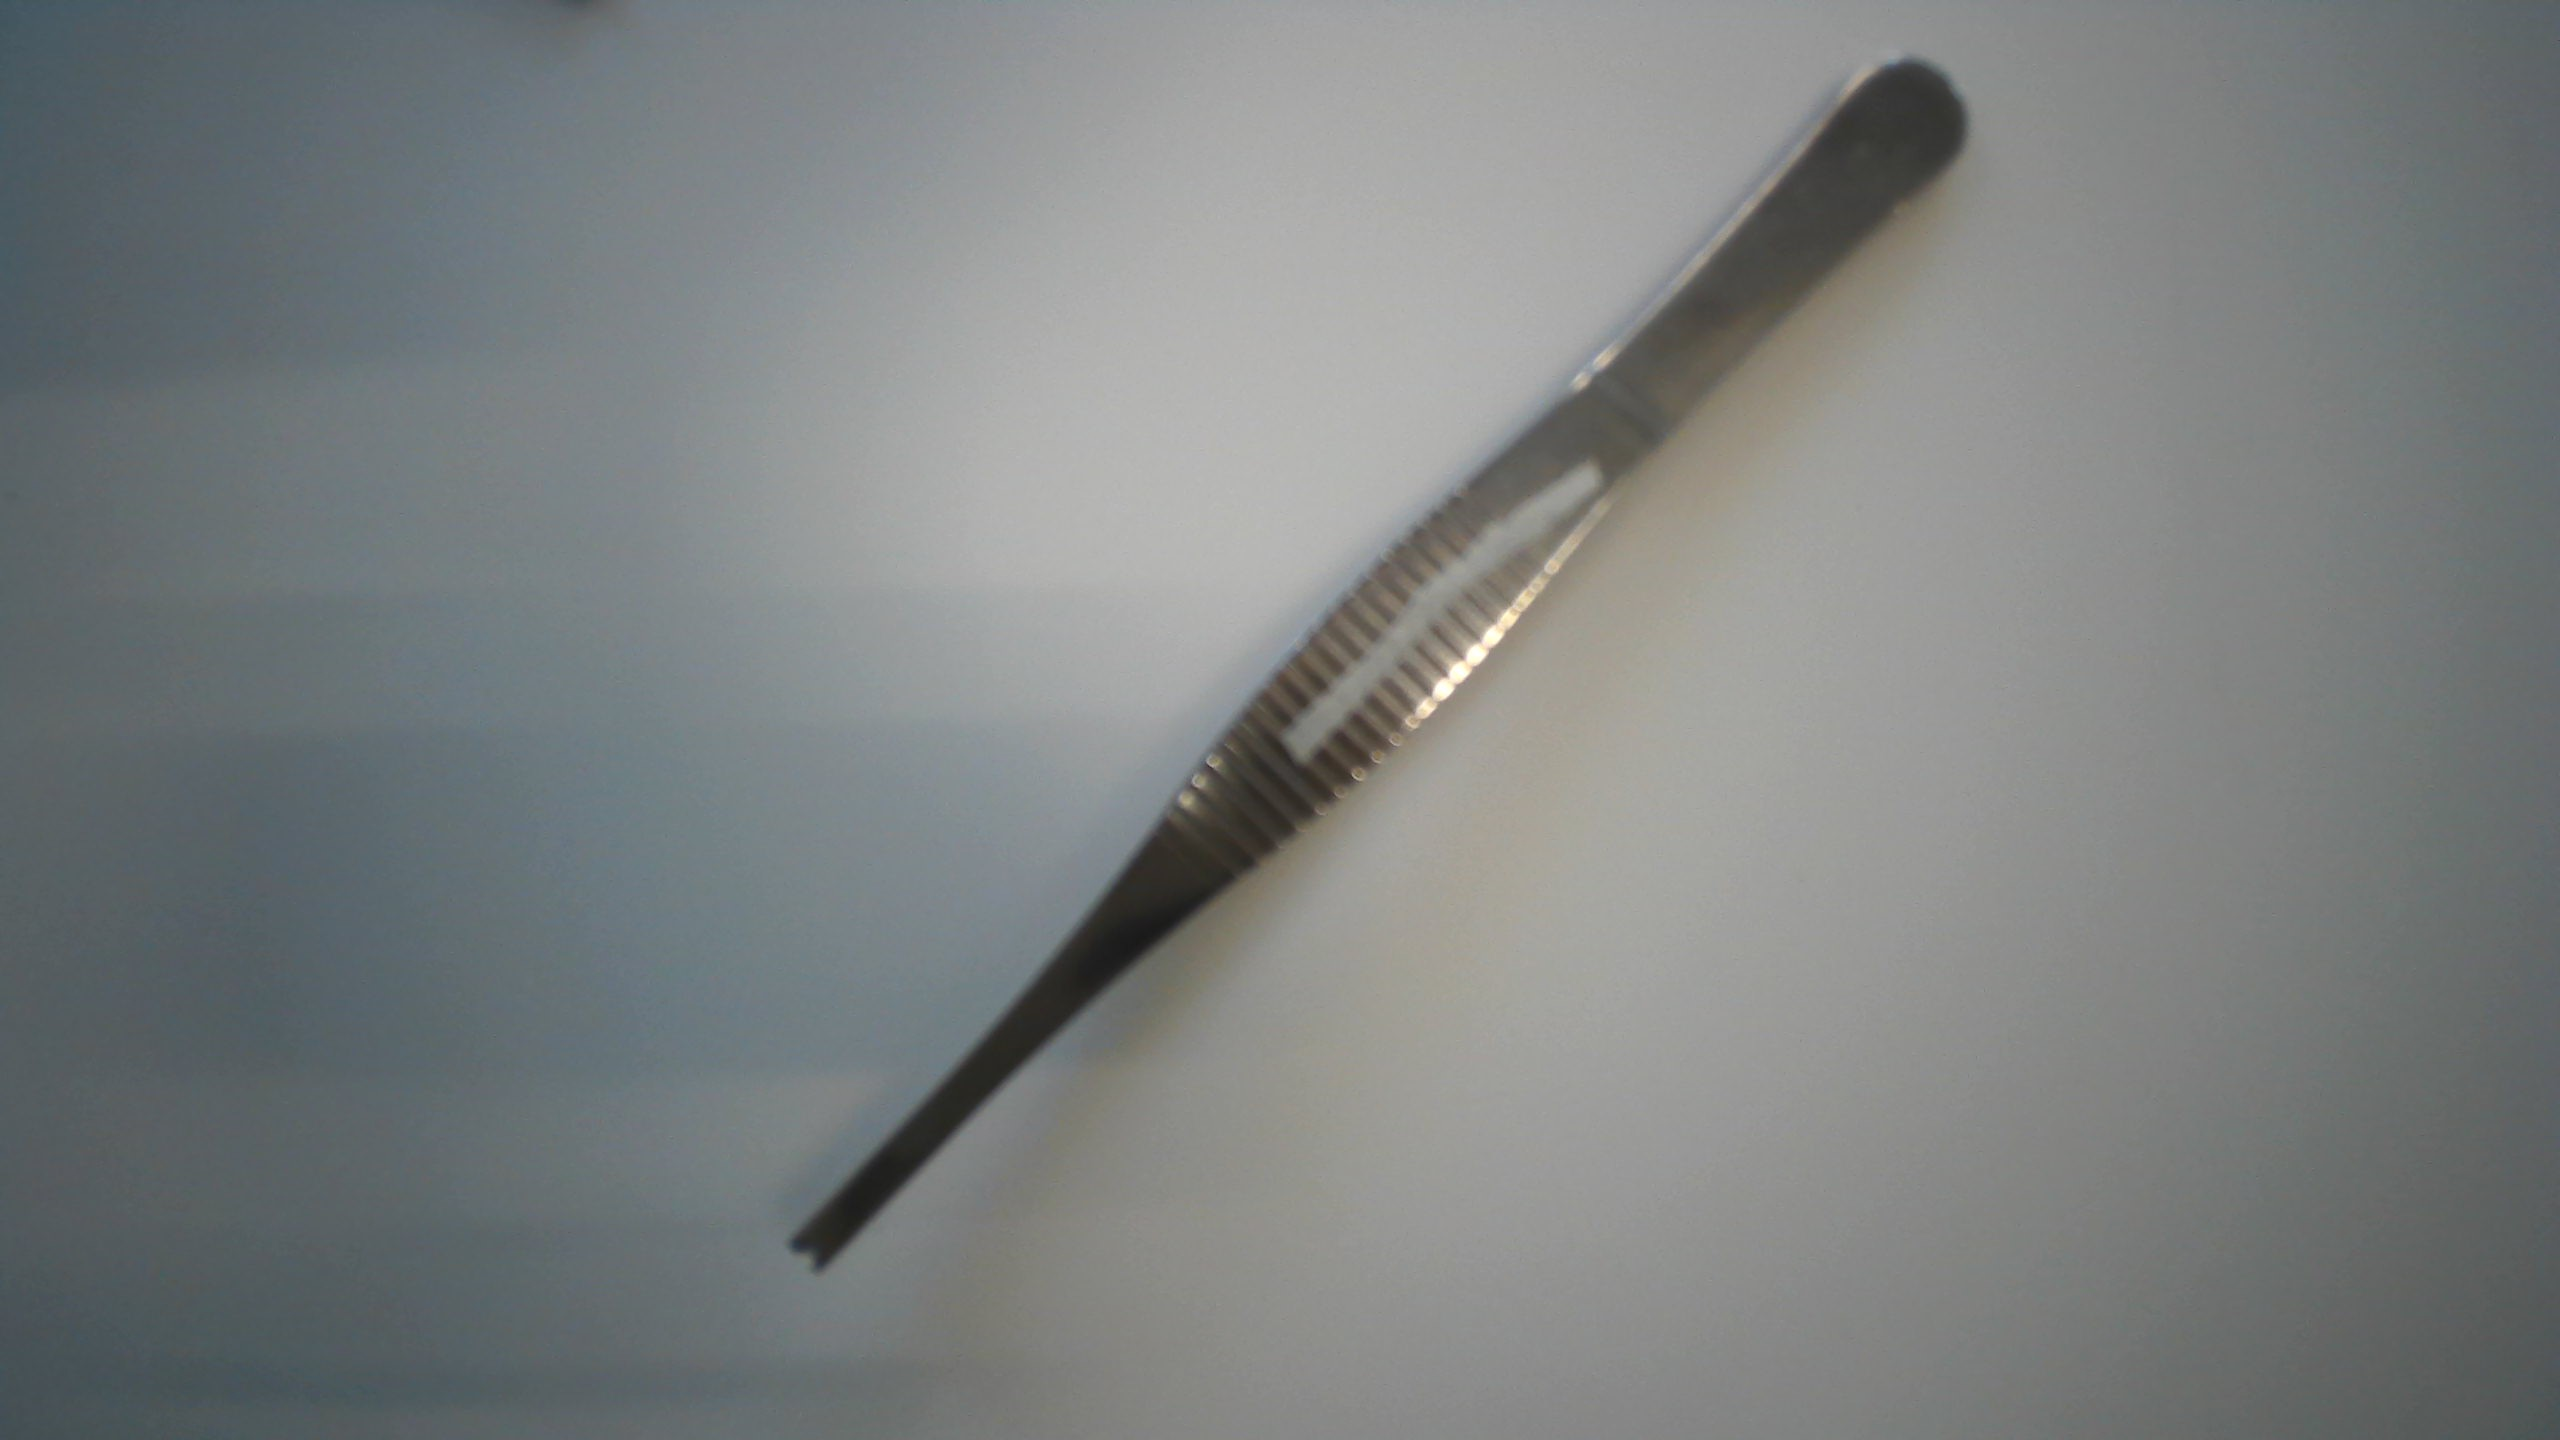Scratches: (1276, 454, 1611, 763)
